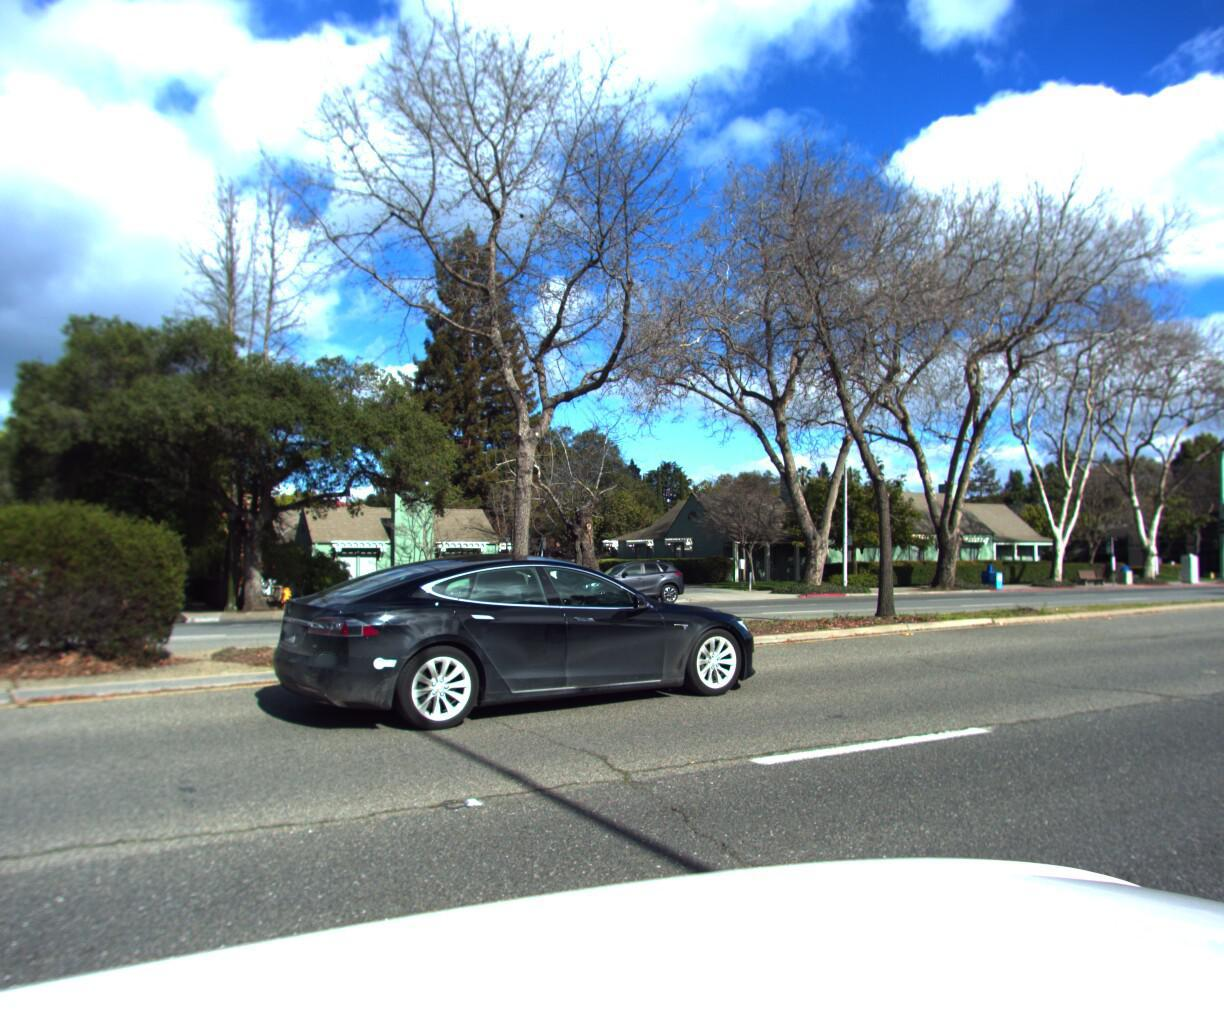bicycle: (1222, 550, 1224, 576)
car: (243, 536, 781, 748), (560, 556, 692, 607)
